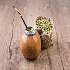guampa: (11, 4, 42, 63)
